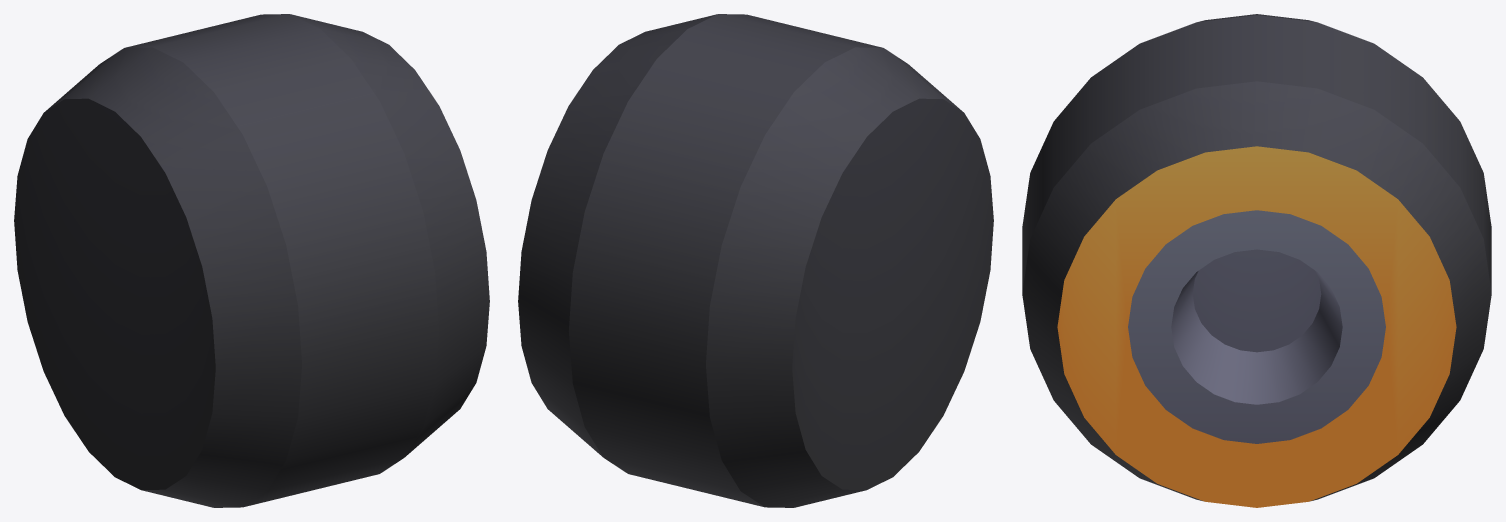
Rendered from wheel-racing.glb.
3 renders of one model, left to right at view 1: azimuth 30°, elevation 25°; view 2: azimuth 150°, elevation 25°; view 3: azimuth 270°, elevation 25°, orthographic.
Visible parts, largest first — view 1: wheel-racing; view 2: wheel-racing; view 3: wheel-racing.
Boxes of the visible parts, left/top/right/bottom form: wheel-racing: left=14, top=14, right=489, bottom=507; wheel-racing: left=518, top=14, right=993, bottom=507; wheel-racing: left=1022, top=14, right=1491, bottom=507.
Size of the model in its own units: 0.4 by 0.6 by 0.6.
Materials: 1 (1 with a texture image).
